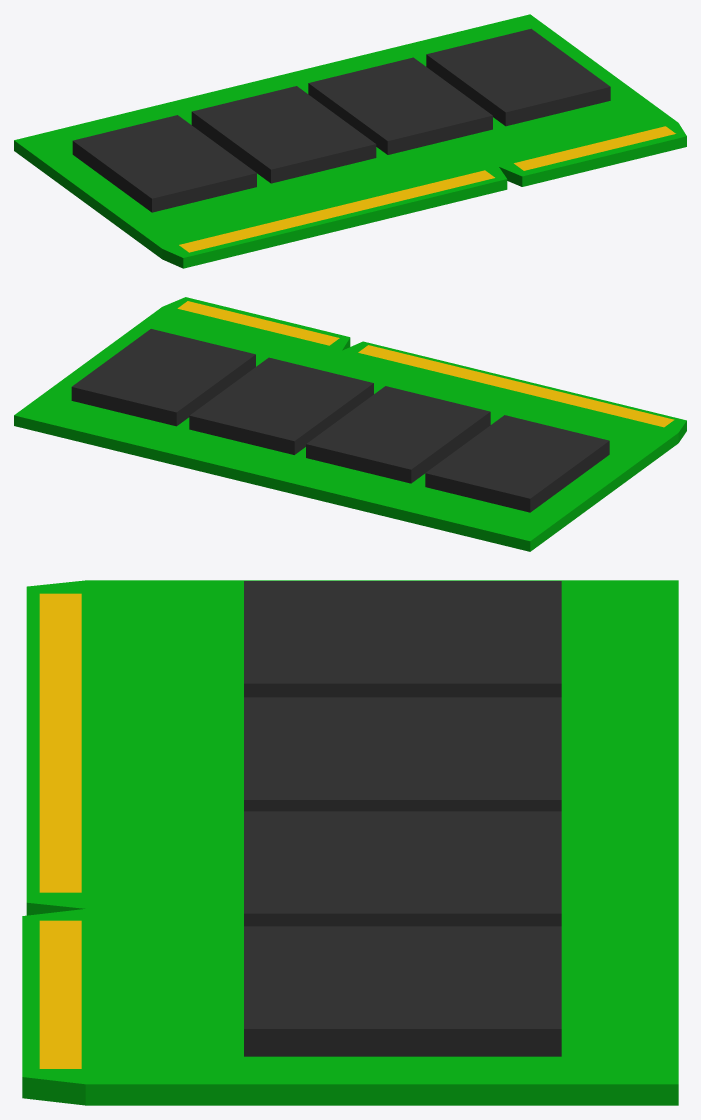
The model's file is ram.fbx.
3 renders of one model, top to bottom at view 1: azimuth 30°, elevation 25°; view 2: azimuth 150°, elevation 25°; view 3: azimuth 270°, elevation 25°, orthographic. The views are drawn at different scales.
Visible parts, largest first — view 1: Cube, Cube.001, Cube.002, Cube.004, Cube.003, Plane, Plane.001; view 2: Cube, Cube.001, Cube.002, Cube.004, Cube.003, Plane, Plane.001; view 3: Cube, Cube.004, Cube.001, Cube.003, Cube.002, Plane, Plane.001.
Boxes of the visible parts, x1=… form: Cube: x1=14, y1=14, x2=686, y2=268; Cube.001: x1=72, y1=115, x2=256, y2=212; Cube.002: x1=191, y1=86, x2=376, y2=183; Cube.004: x1=426, y1=28, x2=610, y2=126; Cube.003: x1=308, y1=57, x2=492, y2=154; Plane: x1=179, y1=170, x2=494, y2=252; Plane.001: x1=514, y1=126, x2=675, y2=170; Cube: x1=14, y1=297, x2=686, y2=551; Cube.001: x1=425, y1=415, x2=609, y2=512; Cube.002: x1=306, y1=386, x2=490, y2=483; Cube.004: x1=71, y1=329, x2=255, y2=426; Cube.003: x1=189, y1=357, x2=373, y2=454; Plane: x1=358, y1=345, x2=674, y2=427; Plane.001: x1=177, y1=301, x2=339, y2=345; Cube: x1=22, y1=580, x2=678, y2=1105; Cube.004: x1=244, y1=926, x2=561, y2=1056; Cube.001: x1=244, y1=581, x2=561, y2=697; Cube.003: x1=244, y1=811, x2=561, y2=926; Cube.002: x1=244, y1=697, x2=561, y2=811; Plane: x1=39, y1=593, x2=81, y2=892; Plane.001: x1=39, y1=920, x2=81, y2=1068.
Size of the model in its own units: 200 by 9.08 by 110.
